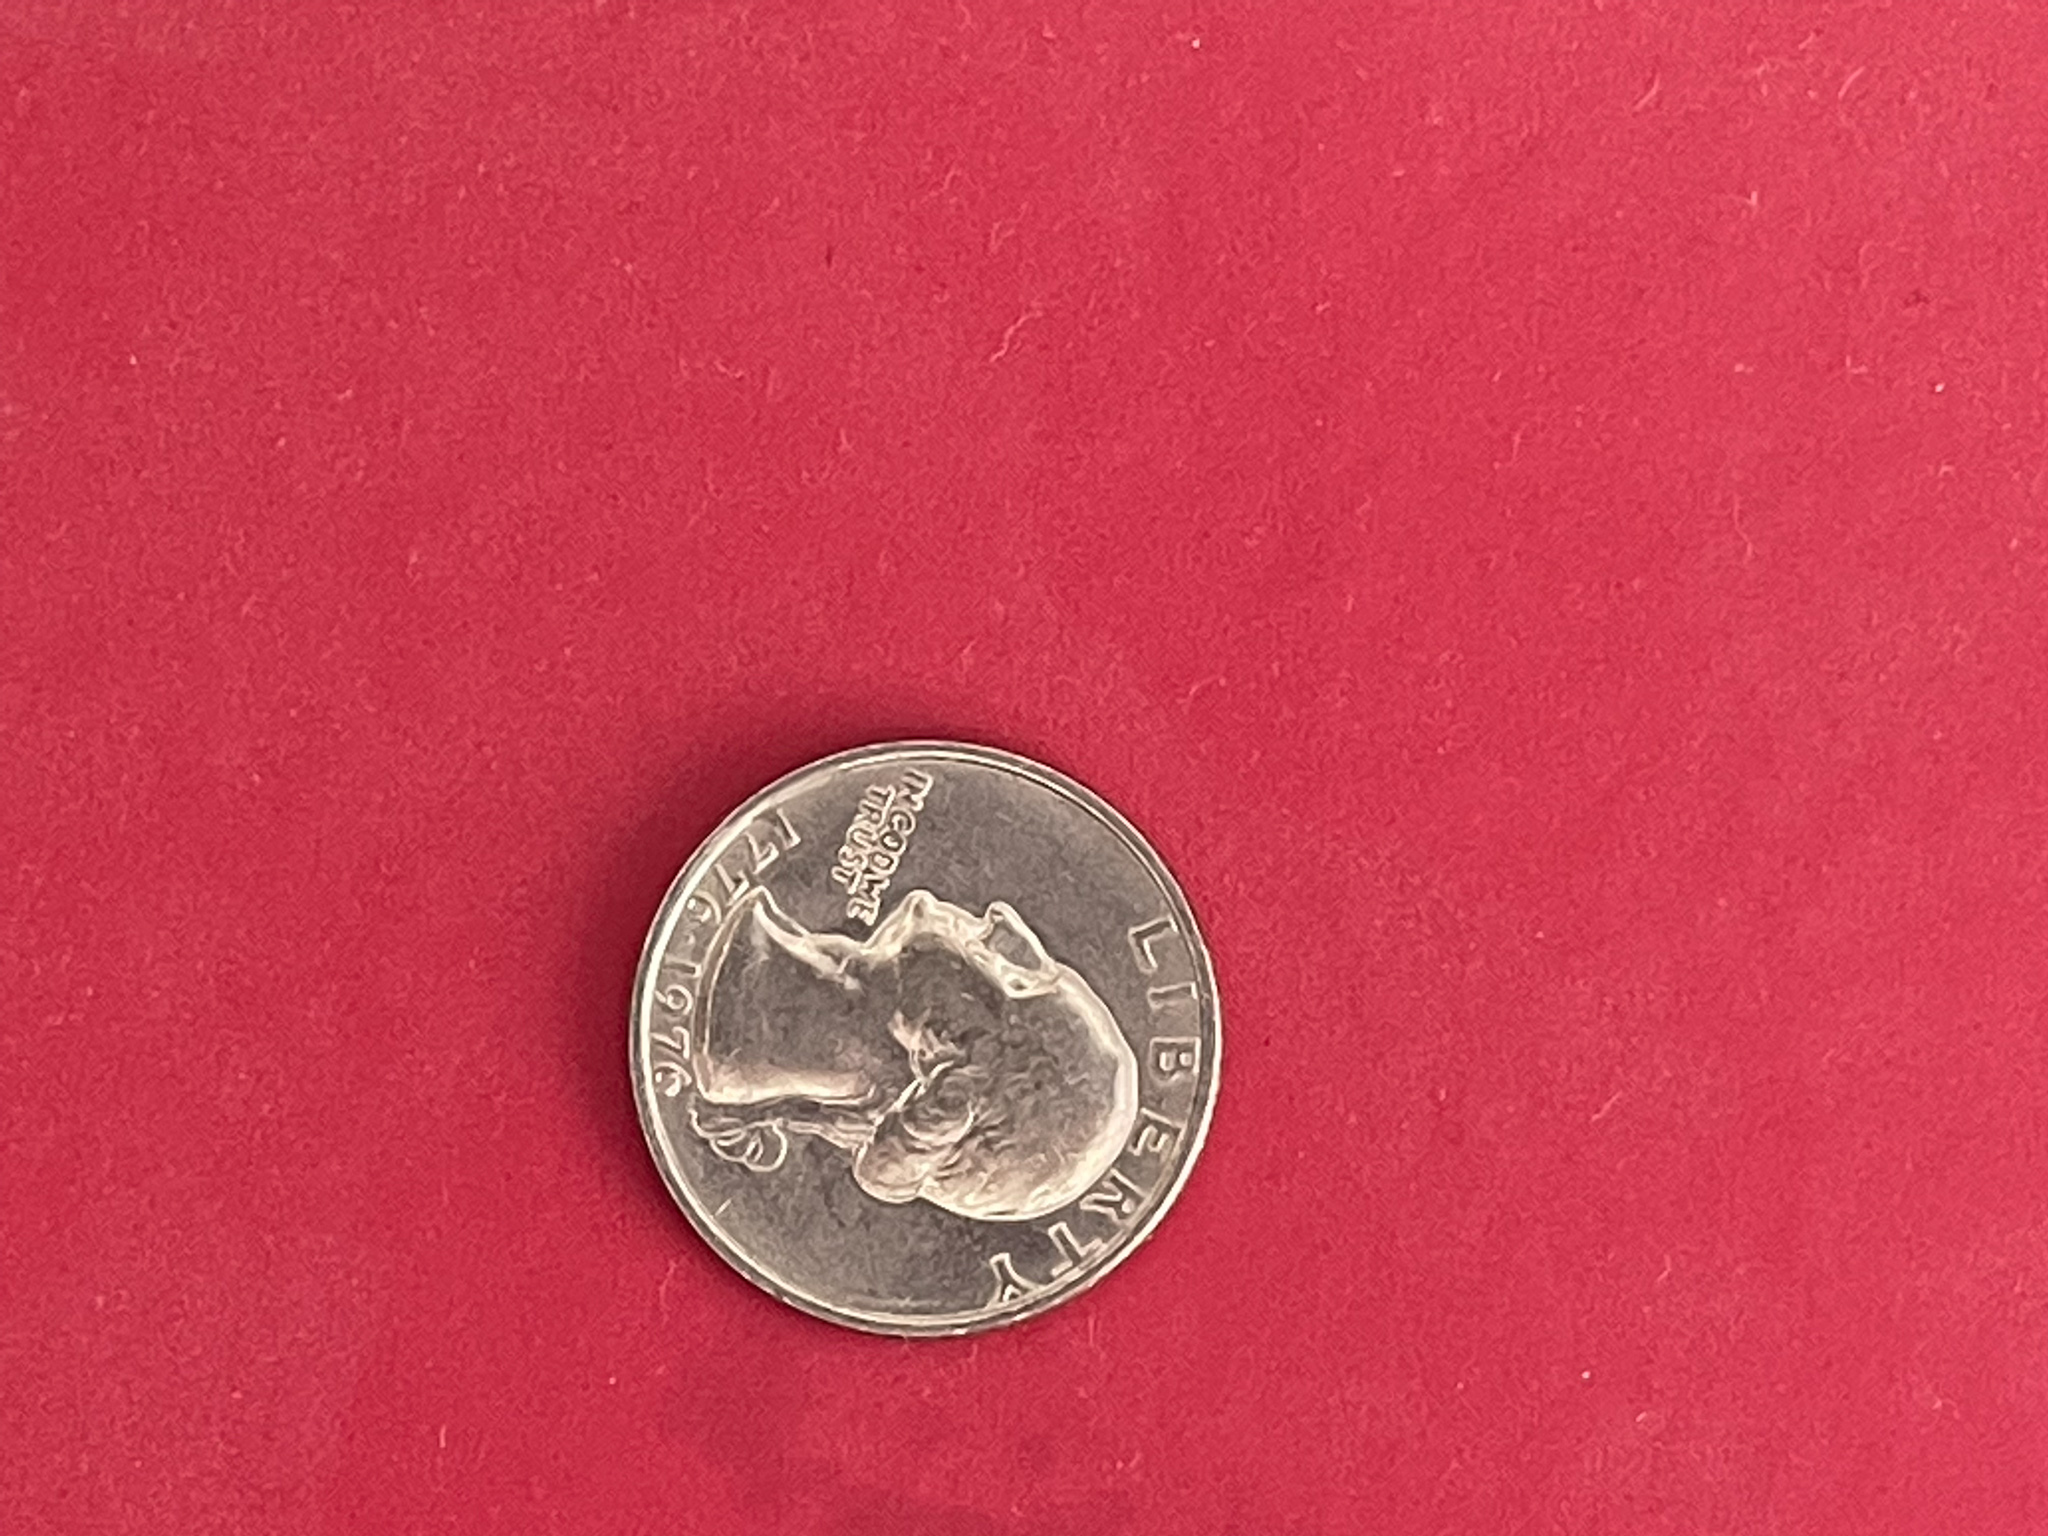quarter: (618, 736, 1230, 1342)
